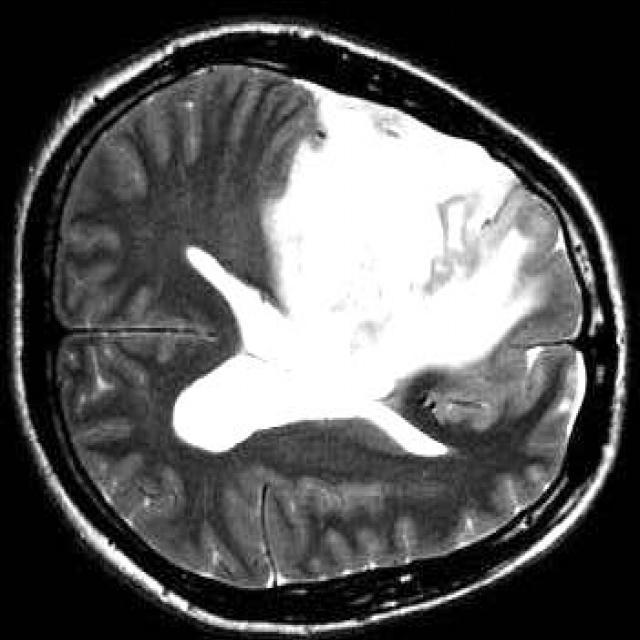tumor: (173, 81, 560, 456)
